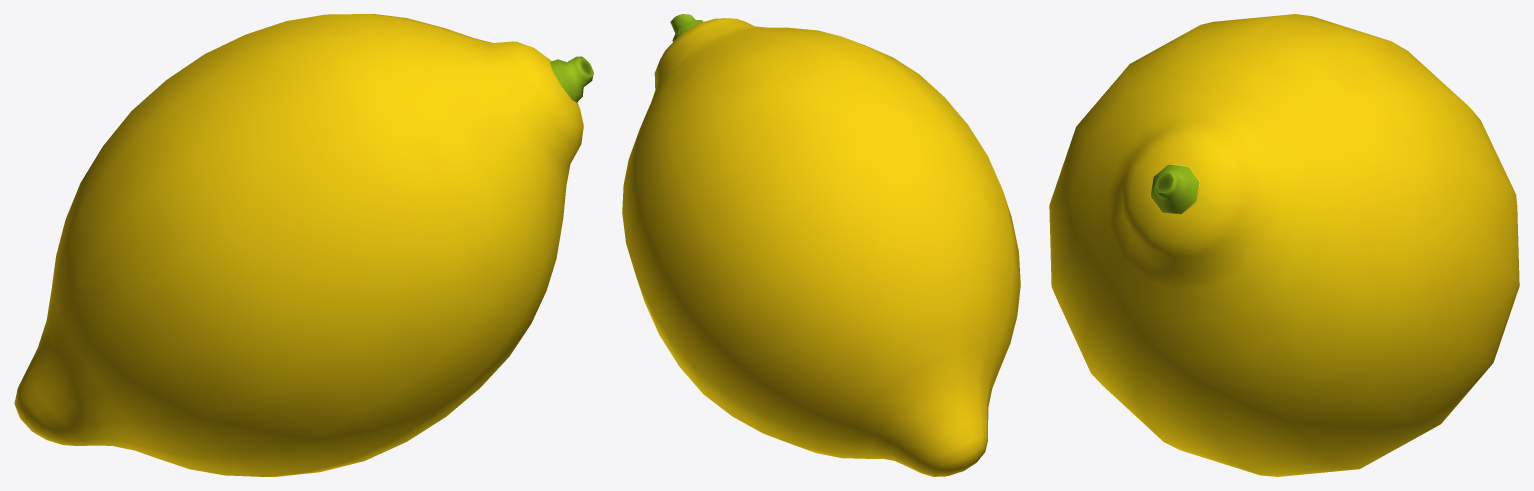
File: lemon_final.glb
3 renders of one model, left to right at view 1: azimuth 30°, elevation 25°; view 2: azimuth 150°, elevation 25°; view 3: azimuth 270°, elevation 25°, orthographic. The views are drawn at different scales.
Visible parts, largest first — view 1: lemon; view 2: lemon; view 3: lemon.
Boxes of the visible parts, x1,y1,x2,y2 form: lemon: [14, 14, 593, 476]; lemon: [622, 14, 1020, 476]; lemon: [1049, 14, 1519, 476].
Bounding box in the file's own units: 1.01 × 0.8811 × 0.8399.
Materials: 1 (1 with a texture image).
